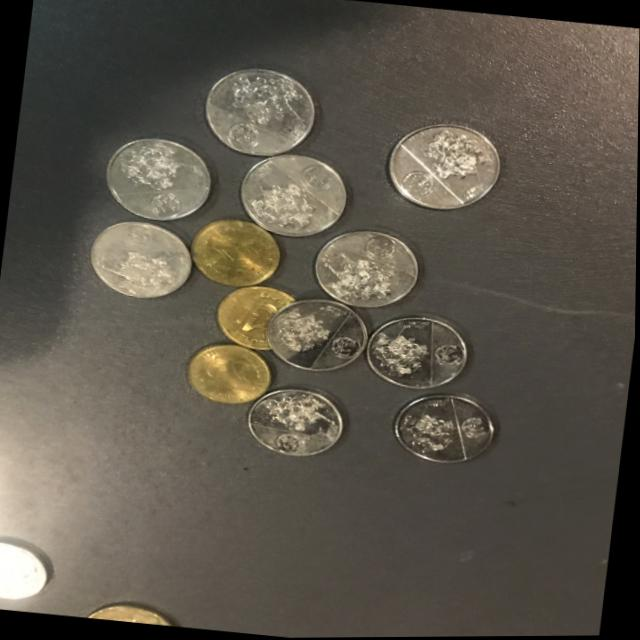1_New_Back: (412, 124, 499, 187), (319, 251, 404, 305), (268, 301, 338, 362), (370, 320, 431, 382)
